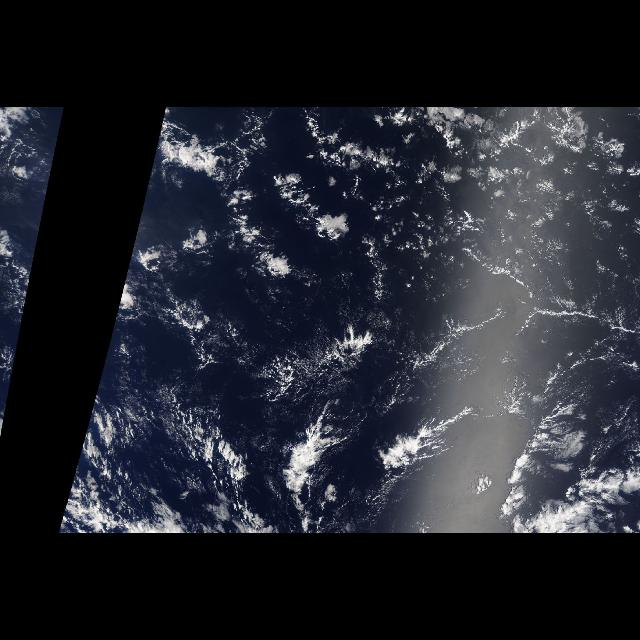Fish: (144, 392, 456, 514)
Flower: (120, 166, 354, 300)
